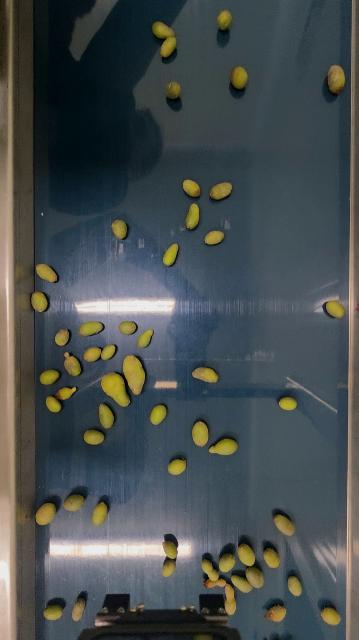Baby Potato: (101, 371, 133, 408), (122, 353, 147, 396), (209, 436, 240, 457), (327, 64, 347, 94), (274, 512, 297, 537), (192, 365, 220, 385), (35, 501, 57, 526), (192, 420, 211, 448), (35, 261, 58, 284), (159, 34, 179, 59), (223, 583, 238, 616), (230, 65, 249, 91), (185, 202, 202, 231), (97, 403, 115, 430), (210, 180, 233, 201), (238, 542, 257, 567), (91, 501, 109, 527), (322, 605, 343, 627), (152, 20, 175, 40), (63, 353, 82, 377), (78, 320, 104, 337), (326, 298, 347, 319), (182, 178, 203, 199), (246, 566, 266, 588), (231, 574, 254, 593), (163, 242, 180, 267), (150, 403, 168, 426), (216, 8, 234, 31), (64, 493, 85, 512), (164, 79, 183, 100), (266, 604, 288, 622), (263, 547, 281, 569), (204, 228, 226, 246), (31, 290, 48, 313), (168, 457, 188, 476), (111, 218, 128, 240), (202, 558, 218, 581), (71, 598, 86, 622), (219, 552, 237, 572), (43, 603, 63, 621), (83, 345, 103, 363), (39, 368, 60, 385), (288, 575, 304, 597), (138, 327, 154, 349), (84, 429, 105, 445), (279, 395, 299, 411), (54, 327, 70, 347), (45, 395, 62, 413), (163, 539, 178, 559), (57, 386, 77, 400), (101, 344, 117, 361), (119, 320, 137, 335), (162, 559, 176, 577), (209, 577, 228, 588)
